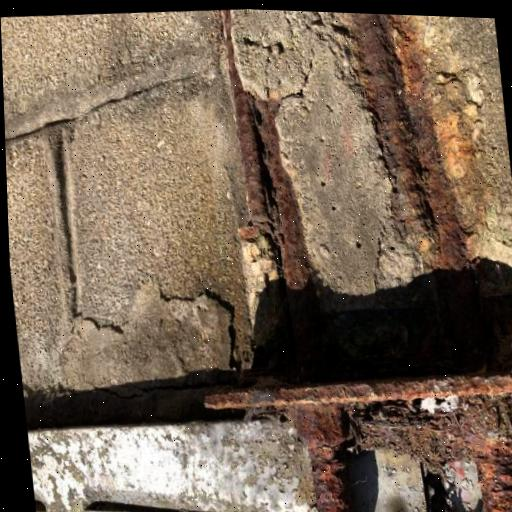exposed_rebar: (205, 373, 512, 512), (224, 10, 326, 372), (351, 13, 467, 268), (462, 430, 512, 512)
